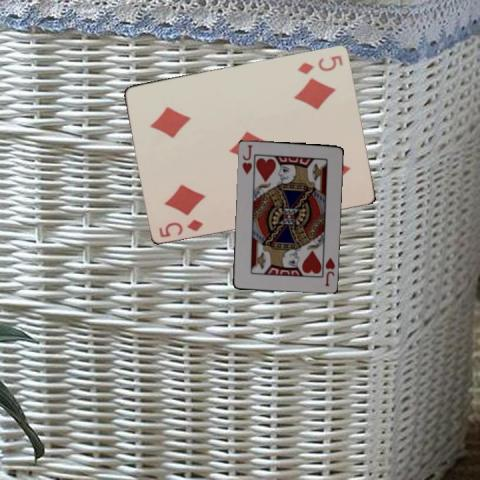5d: (294, 52, 345, 75), (156, 216, 205, 239)
Jh: (322, 254, 336, 287), (240, 142, 253, 176)
